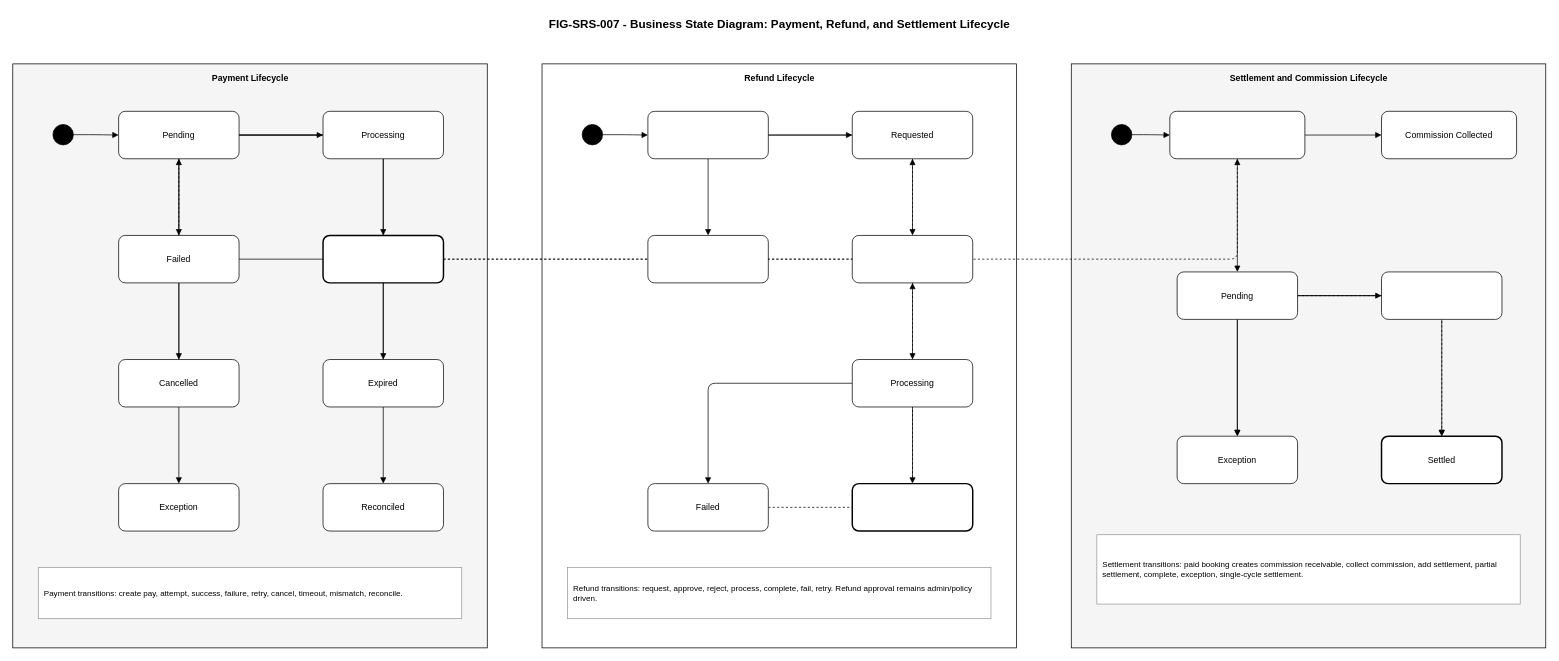
Image size: 1559x661. Some labels were removed from this diagram. The centre of each missing label's shape, as x and y in pixels:
"Approved" goes at [912,259].
"Commission Receivable" goes at [1237,135].
"Not Required" goes at [707,135].
"Paid" goes at [383,258].
"Partially Settled" goes at [1441,295].
"Refunded" goes at [912,507].
"Rejected" goes at [707,259].
